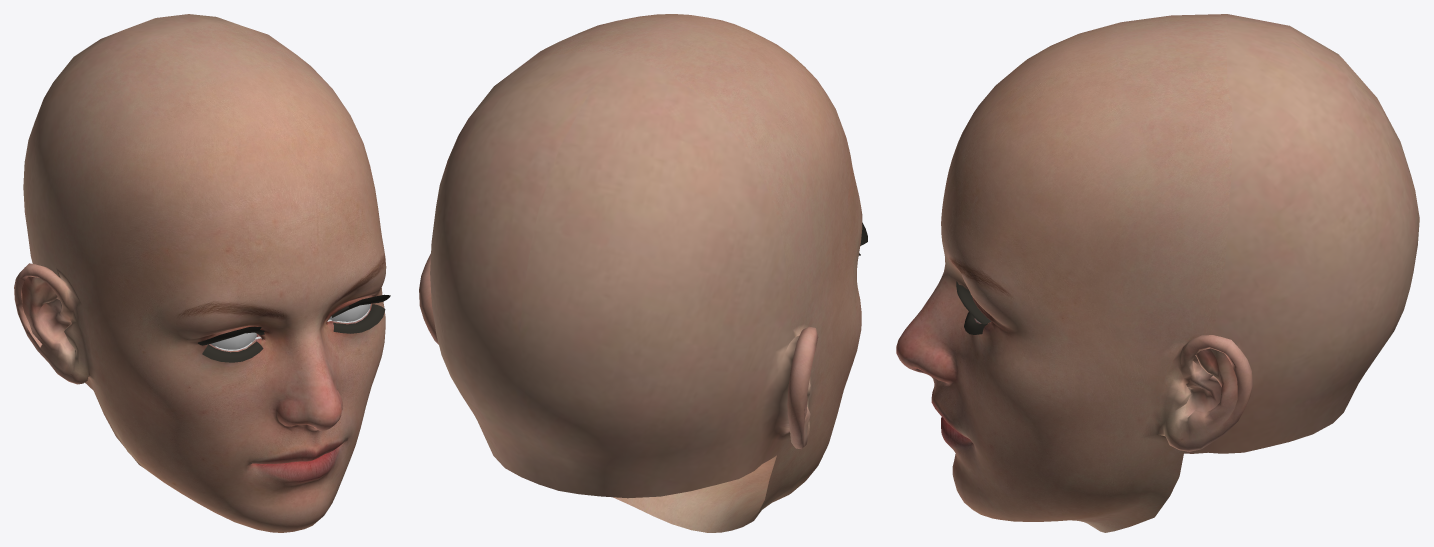
File: Fem.obj
The picture shows the model from 3 angles, left to right: view 1: azimuth 30°, elevation 25°; view 2: azimuth 150°, elevation 25°; view 3: azimuth 270°, elevation 25°; orthographic projection. The views are drawn at different scales.
Visible parts, largest first — view 1: head, rEye; view 2: head; view 3: head.
Boxes of the visible parts, x1=… form: head: x1=14, y1=14, x2=390, y2=532; rEye: x1=211, y1=332, x2=256, y2=349; head: x1=419, y1=14, x2=867, y2=532; head: x1=896, y1=14, x2=1419, y2=532.
Bounding box in the file's own units: 19.55 × 25.16 × 24.16.
